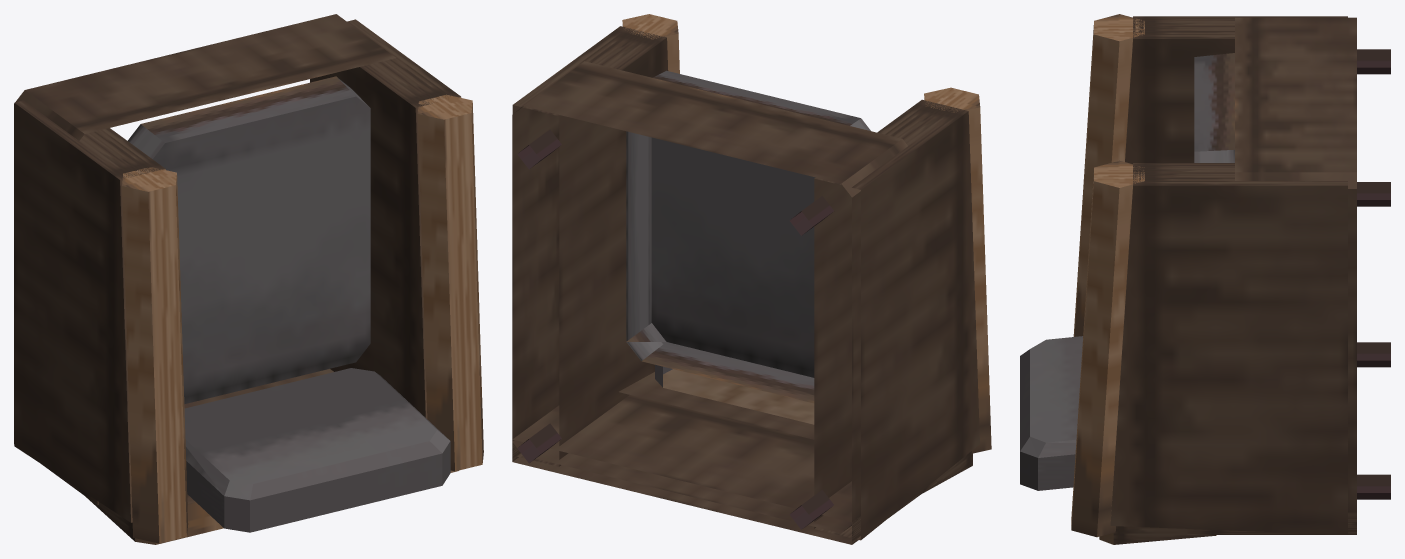
The model's file is pz_chair_seating_indoor_02_blue_rattan_fidelity_r1.obj.
3 renders of one model, left to right at view 1: azimuth 30°, elevation 25°; view 2: azimuth 150°, elevation 25°; view 3: azimuth 270°, elevation 25°, orthographic. The views are drawn at different scales.
Parts seen in each view (by area): view 1: pz_chair_seating_indoor_02_blue_rattan__seat_0__seat, pz_chair_seating_indoor_02_blue_rattan__arm_panel_-1__frame, pz_chair_seating_indoor_02_blue_rattan__back_cushion_0__back, pz_chair_seating_indoor_02_blue_rattan__rounded_rail_-1__frame, pz_chair_seating_indoor_02_blue_rattan__rounded_rail_1__frame, pz_chair_seating_indoor_02_blue_rattan__arm_panel_1__frame, pz_chair_seating_indoor_02_blue_rattan__lower_body__frame, pz_chair_seating_indoor_02_blue_rattan__rear_shell__frame, pz_chair_seating_indoor_02_blue_rattan__rear_body_bridge__frame; view 2: pz_chair_seating_indoor_02_blue_rattan__arm_panel_-1__frame, pz_chair_seating_indoor_02_blue_rattan__seat_0__seat, pz_chair_seating_indoor_02_blue_rattan__lower_body__frame, pz_chair_seating_indoor_02_blue_rattan__arm_panel_1__frame, pz_chair_seating_indoor_02_blue_rattan__rear_body_bridge__frame, pz_chair_seating_indoor_02_blue_rattan__rounded_rail_-1__frame, pz_chair_seating_indoor_02_blue_rattan__rear_shell__frame, pz_chair_seating_indoor_02_blue_rattan__back_cushion_0__back, pz_chair_seating_indoor_02_blue_rattan__rounded_rail_1__frame, pz_chair_seating_indoor_02_blue_rattan__foot_1_-1__frame, pz_chair_seating_indoor_02_blue_rattan__foot_1_1__frame, pz_chair_seating_indoor_02_blue_rattan__foot_-1_-1__frame (+1 smaller); view 3: pz_chair_seating_indoor_02_blue_rattan__arm_panel_1__frame, pz_chair_seating_indoor_02_blue_rattan__lower_body__frame, pz_chair_seating_indoor_02_blue_rattan__rounded_rail_1__frame, pz_chair_seating_indoor_02_blue_rattan__arm_panel_-1__frame, pz_chair_seating_indoor_02_blue_rattan__back_cushion_0__back, pz_chair_seating_indoor_02_blue_rattan__rounded_rail_-1__frame, pz_chair_seating_indoor_02_blue_rattan__seat_0__seat, pz_chair_seating_indoor_02_blue_rattan__rear_shell__frame, pz_chair_seating_indoor_02_blue_rattan__foot_-1_-1__frame, pz_chair_seating_indoor_02_blue_rattan__foot_-1_1__frame, pz_chair_seating_indoor_02_blue_rattan__foot_1_-1__frame, pz_chair_seating_indoor_02_blue_rattan__foot_1_1__frame (+1 smaller).
Boxes of the visible parts, left/top/right/bottom form: pz_chair_seating_indoor_02_blue_rattan__seat_0__seat: left=127, top=76, right=370, bottom=404; pz_chair_seating_indoor_02_blue_rattan__arm_panel_-1__frame: left=14, top=100, right=165, bottom=522; pz_chair_seating_indoor_02_blue_rattan__back_cushion_0__back: left=184, top=368, right=450, bottom=532; pz_chair_seating_indoor_02_blue_rattan__rounded_rail_-1__frame: left=122, top=167, right=188, bottom=543; pz_chair_seating_indoor_02_blue_rattan__rounded_rail_1__frame: left=417, top=94, right=483, bottom=471; pz_chair_seating_indoor_02_blue_rattan__arm_panel_1__frame: left=310, top=19, right=461, bottom=418; pz_chair_seating_indoor_02_blue_rattan__lower_body__frame: left=14, top=14, right=399, bottom=423; pz_chair_seating_indoor_02_blue_rattan__rear_shell__frame: left=85, top=470, right=458, bottom=544; pz_chair_seating_indoor_02_blue_rattan__rear_body_bridge__frame: left=14, top=369, right=333, bottom=505; pz_chair_seating_indoor_02_blue_rattan__arm_panel_-1__frame: left=814, top=99, right=979, bottom=540; pz_chair_seating_indoor_02_blue_rattan__seat_0__seat: left=626, top=70, right=870, bottom=403; pz_chair_seating_indoor_02_blue_rattan__lower_body__frame: left=512, top=61, right=907, bottom=532; pz_chair_seating_indoor_02_blue_rattan__arm_panel_1__frame: left=512, top=26, right=668, bottom=466; pz_chair_seating_indoor_02_blue_rattan__rear_body_bridge__frame: left=512, top=395, right=936, bottom=544; pz_chair_seating_indoor_02_blue_rattan__rounded_rail_-1__frame: left=924, top=87, right=991, bottom=453; pz_chair_seating_indoor_02_blue_rattan__rear_shell__frame: left=619, top=372, right=972, bottom=492; pz_chair_seating_indoor_02_blue_rattan__back_cushion_0__back: left=655, top=364, right=814, bottom=424; pz_chair_seating_indoor_02_blue_rattan__rounded_rail_1__frame: left=622, top=14, right=679, bottom=73; pz_chair_seating_indoor_02_blue_rattan__foot_1_-1__frame: left=517, top=423, right=561, bottom=463; pz_chair_seating_indoor_02_blue_rattan__foot_1_1__frame: left=517, top=129, right=561, bottom=169; pz_chair_seating_indoor_02_blue_rattan__foot_-1_-1__frame: left=789, top=490, right=833, bottom=529; pz_chair_seating_indoor_02_blue_rattan__arm_panel_1__frame: left=1110, top=163, right=1347, bottom=534; pz_chair_seating_indoor_02_blue_rattan__lower_body__frame: left=1235, top=17, right=1356, bottom=512; pz_chair_seating_indoor_02_blue_rattan__rounded_rail_1__frame: left=1071, top=160, right=1144, bottom=537; pz_chair_seating_indoor_02_blue_rattan__arm_panel_-1__frame: left=1125, top=16, right=1347, bottom=164; pz_chair_seating_indoor_02_blue_rattan__back_cushion_0__back: left=1020, top=336, right=1082, bottom=490; pz_chair_seating_indoor_02_blue_rattan__rounded_rail_-1__frame: left=1073, top=14, right=1144, bottom=336; pz_chair_seating_indoor_02_blue_rattan__seat_0__seat: left=1194, top=53, right=1234, bottom=162; pz_chair_seating_indoor_02_blue_rattan__rear_shell__frame: left=1099, top=526, right=1216, bottom=544; pz_chair_seating_indoor_02_blue_rattan__foot_-1_-1__frame: left=1357, top=342, right=1390, bottom=367; pz_chair_seating_indoor_02_blue_rattan__foot_-1_1__frame: left=1357, top=49, right=1390, bottom=74; pz_chair_seating_indoor_02_blue_rattan__foot_1_-1__frame: left=1357, top=474, right=1390, bottom=499; pz_chair_seating_indoor_02_blue_rattan__foot_1_1__frame: left=1357, top=182, right=1390, bottom=206.
Bounding box in the file's own units: 0.8922 × 0.8826 × 0.8036.
Materials: 1 (1 with a texture image).
